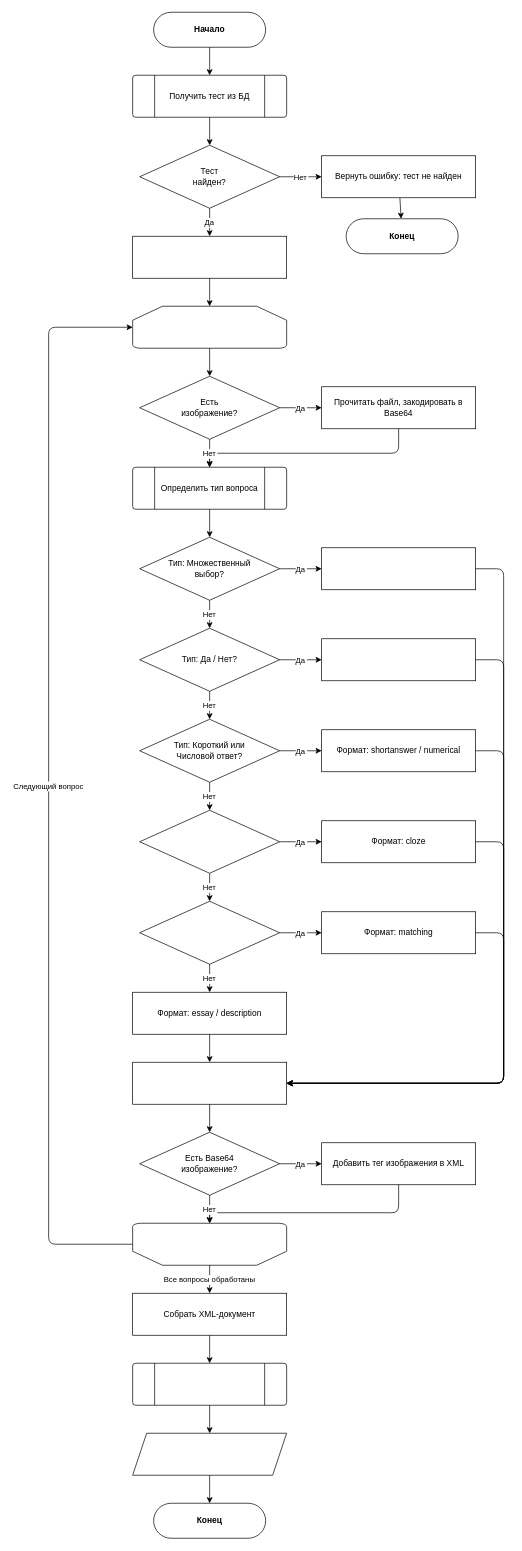
Image size: 522x1551. Some labels were removed from this diagram. Each missing label, with the centre of its shape:
Вернуть ZIP пользователю: the point at 209,1454
Для каждого вопроса: the point at 209,327
Конец цикла по вопросам: the point at 209,1244
Отсортировать вопросы по порядку: the point at 209,257
Сформировать XML-объект вопроса: the point at 209,1083
Тип: Заполни пропуск?: the point at 209,841
Тип: Сопоставление?: the point at 209,932
Упаковать в ZIP-архив: the point at 209,1384
Формат: multichoice: the point at 398,568
Формат: truefalse: the point at 398,659
